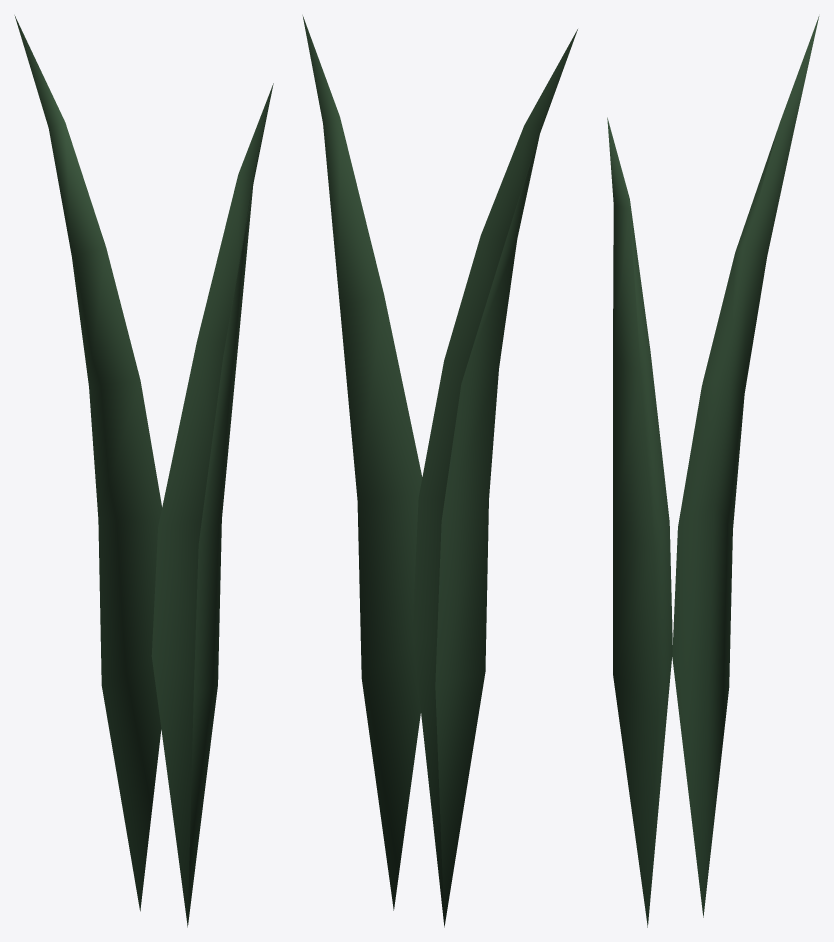
The model's file is trees-grasses-grass-blades_v12.glb.
3 renders of one model, left to right at view 1: azimuth 30°, elevation 25°; view 2: azimuth 210°, elevation 25°; view 3: azimuth 270°, elevation 25°, orthographic. The views are drawn at different scales.
Visible parts, largest first — view 1: Grass Blades_v12; view 2: Grass Blades_v12; view 3: Grass Blades_v12.
Boxes of the visible parts, x1,y1,x2,y2 form: Grass Blades_v12: [14, 15, 273, 927]; Grass Blades_v12: [302, 15, 577, 927]; Grass Blades_v12: [607, 16, 819, 927].
Bounding box in the file's own units: 0.0552 × 0.3 × 0.0663.
